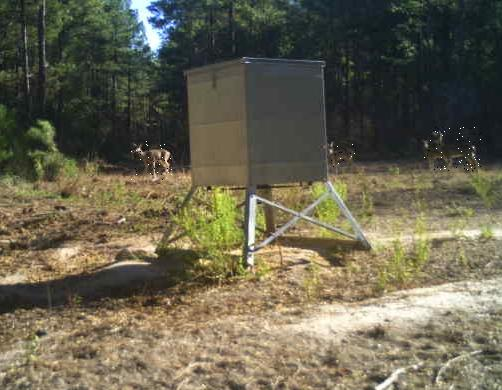Deer: (432, 128, 481, 172), (130, 140, 172, 182), (329, 140, 359, 171), (419, 137, 446, 167)
